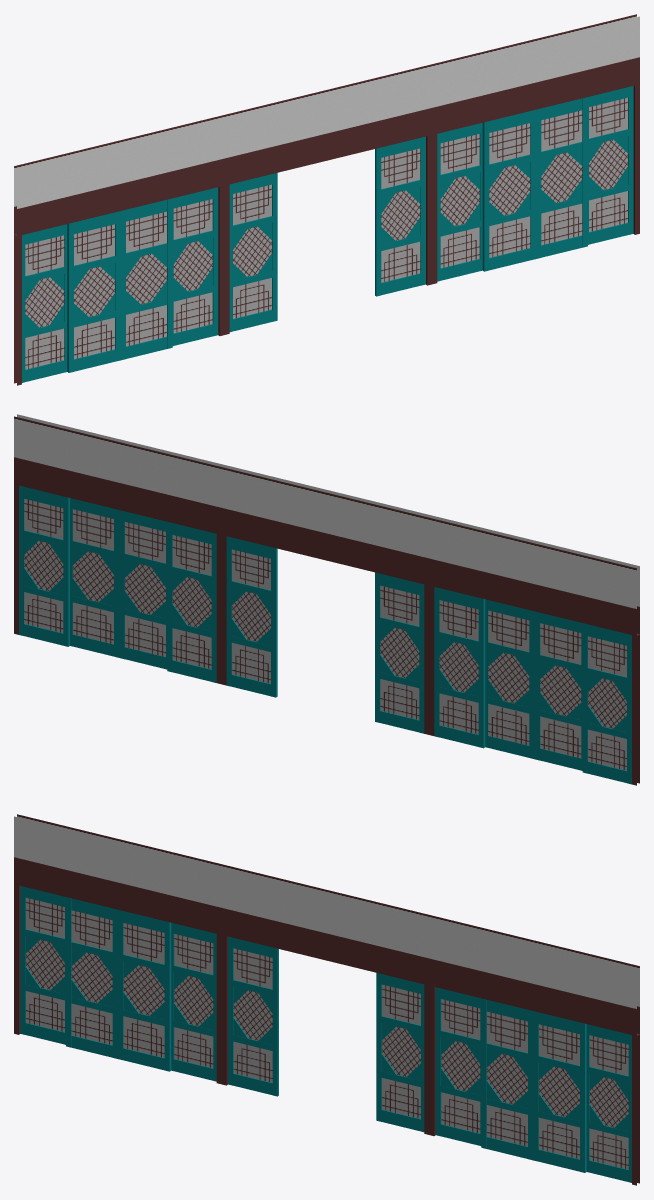
The model's file is living_room_wall_002.fbx.
The picture shows the model from 3 angles, top to bottom: view 1: azimuth 30°, elevation 25°; view 2: azimuth 150°, elevation 25°; view 3: azimuth 330°, elevation 25°; orthographic projection.
Parts seen in each view (by area): view 1: living_room_wall_002; view 2: living_room_wall_002; view 3: living_room_wall_002.
Boxes of the visible parts, x1=… form: living_room_wall_002: x1=14, y1=14, x2=639, y2=385; living_room_wall_002: x1=14, y1=414, x2=639, y2=785; living_room_wall_002: x1=14, y1=814, x2=639, y2=1185.
Bounding box in the file's own units: 1200 × 400 × 10.
